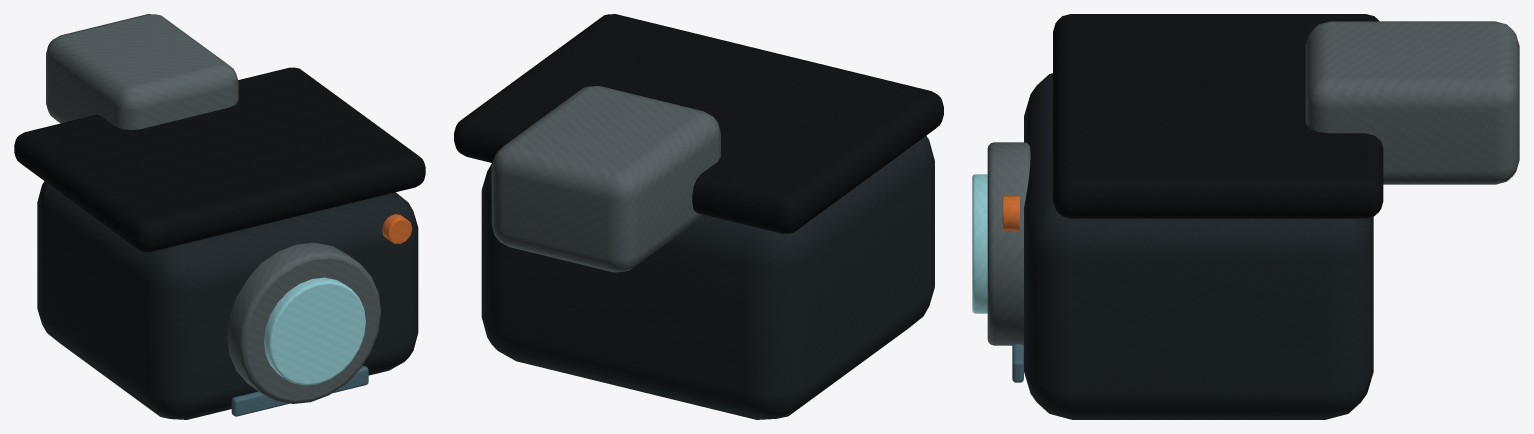
File: SecurityCamera.glb
The picture shows the model from 3 angles, left to right: view 1: azimuth 30°, elevation 25°; view 2: azimuth 150°, elevation 25°; view 3: azimuth 270°, elevation 25°; orthographic projection. The views are drawn at different scales.
Visible parts, largest first — view 1: SecurityCamera_Mesh; view 2: SecurityCamera_Mesh; view 3: SecurityCamera_Mesh.
Part boxes in pixels (bbox=[...]): SecurityCamera_Mesh: bbox=[14, 14, 425, 419]; SecurityCamera_Mesh: bbox=[454, 14, 943, 419]; SecurityCamera_Mesh: bbox=[972, 14, 1519, 419].
Size of the model in its own units: 0.43 by 0.345 by 0.563.
6 materials, 6 textured.
